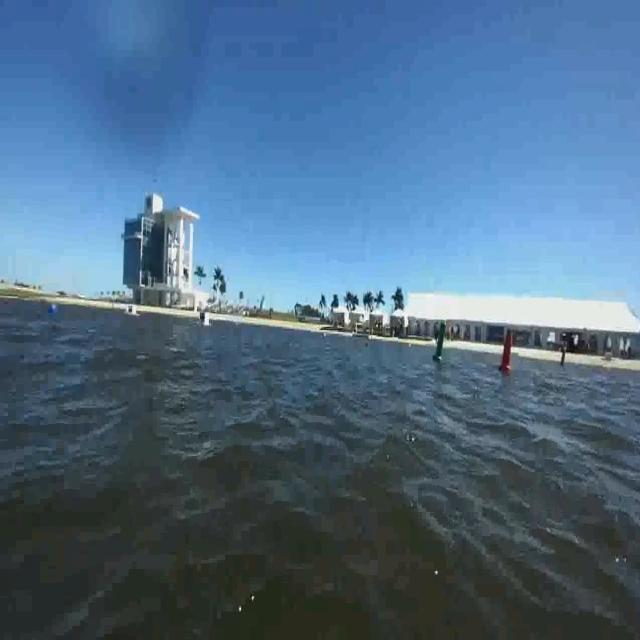green-column-buoy: (435, 313, 446, 366)
red-column-buoy: (497, 330, 515, 376)
